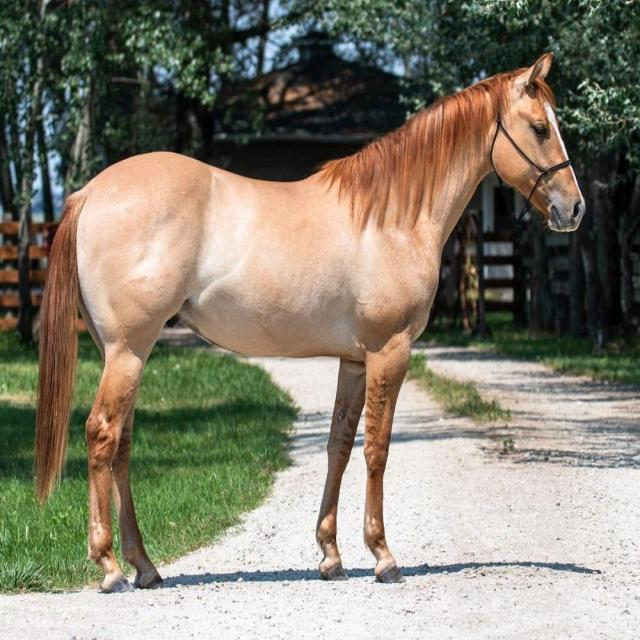horse: (32, 50, 586, 593)
